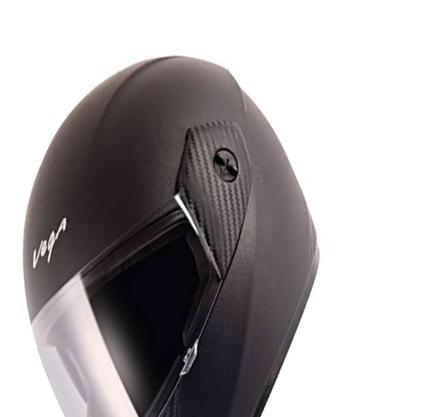helmet: (13, 50, 348, 417)
